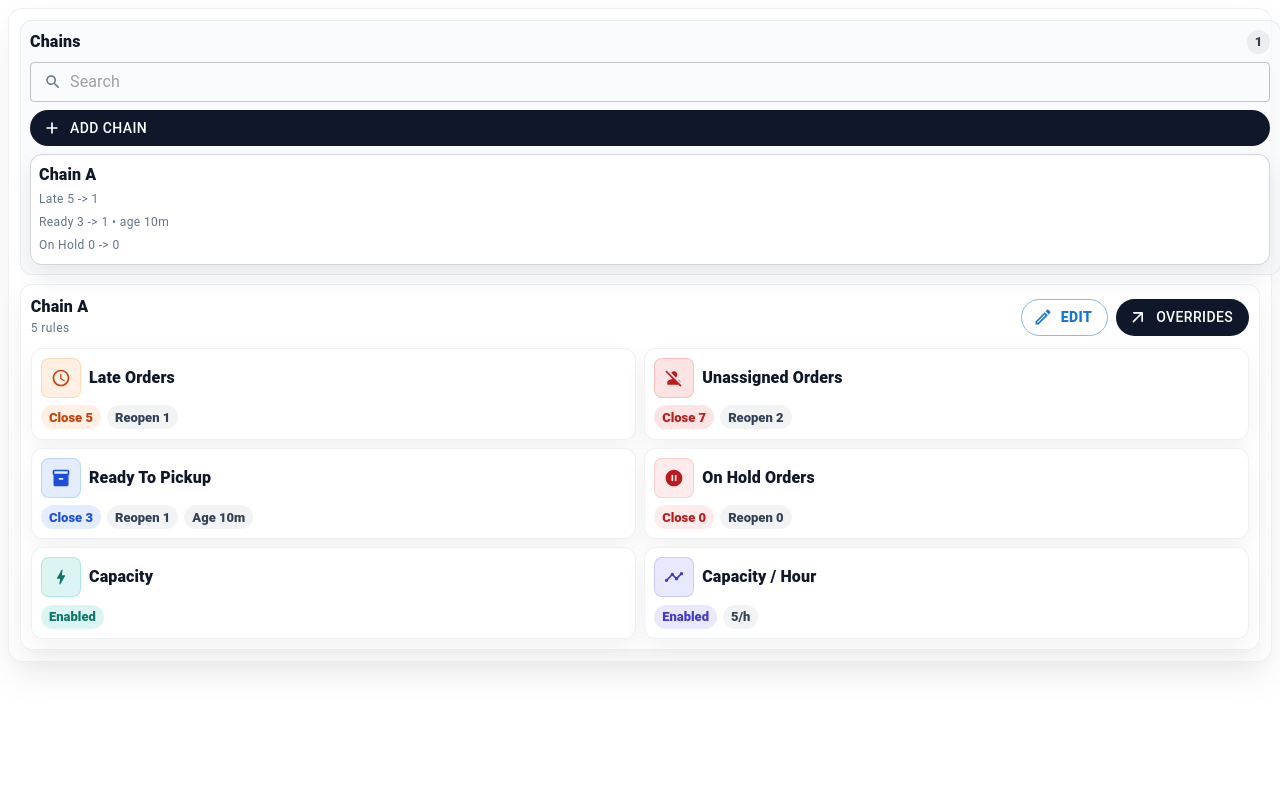
Test case: ChainThresholdManager › hides the defaults section while still allowing chain details
Expected: the button "Overrides" is shown, [1116, 299, 1249, 336]
Click the text "Chain A" below "Chains". click: (68, 175)
box: [39, 166, 96, 184]
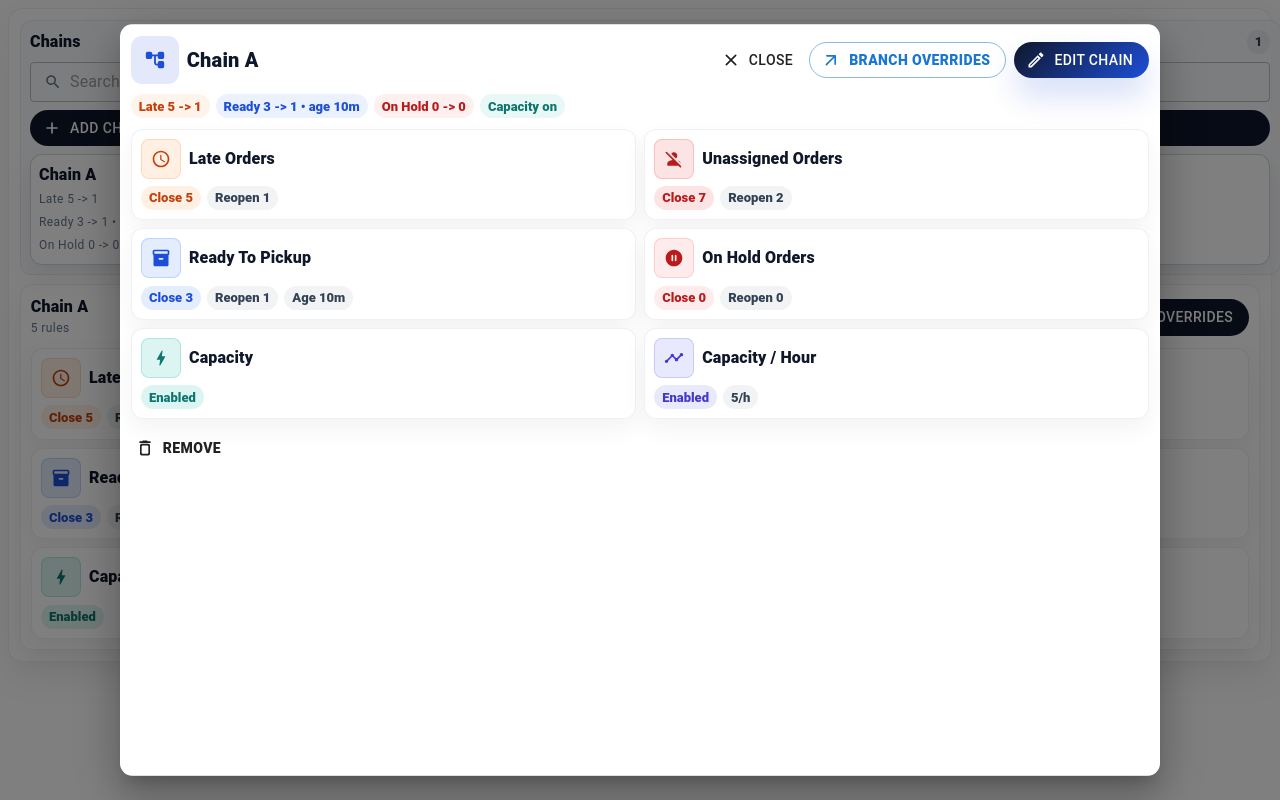
Result: the dialog with test id "chain-details-dialog" is shown
Result: the button "Edit Chain" is shown at [1014, 42, 1149, 78]
Result: the button "Branch Overrides" is shown at [809, 42, 1006, 78]
